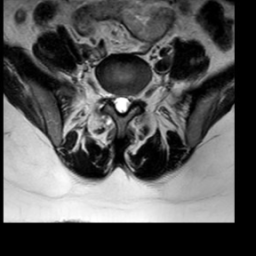CCS_normal: (118, 84, 125, 121)
LFS_normal: (132, 82, 140, 108)
LLS_normal: (125, 85, 132, 116)
RFS_stenosis: (104, 81, 111, 106)
RLS_normal: (111, 84, 118, 115)
